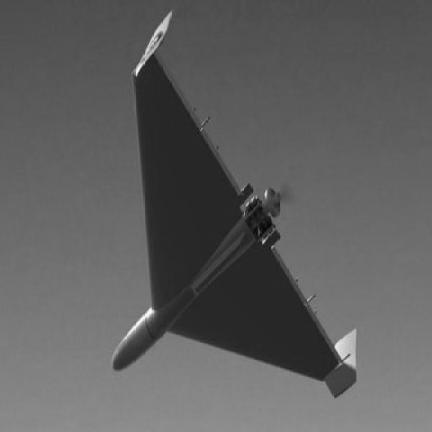Shahed: (113, 14, 355, 396)
